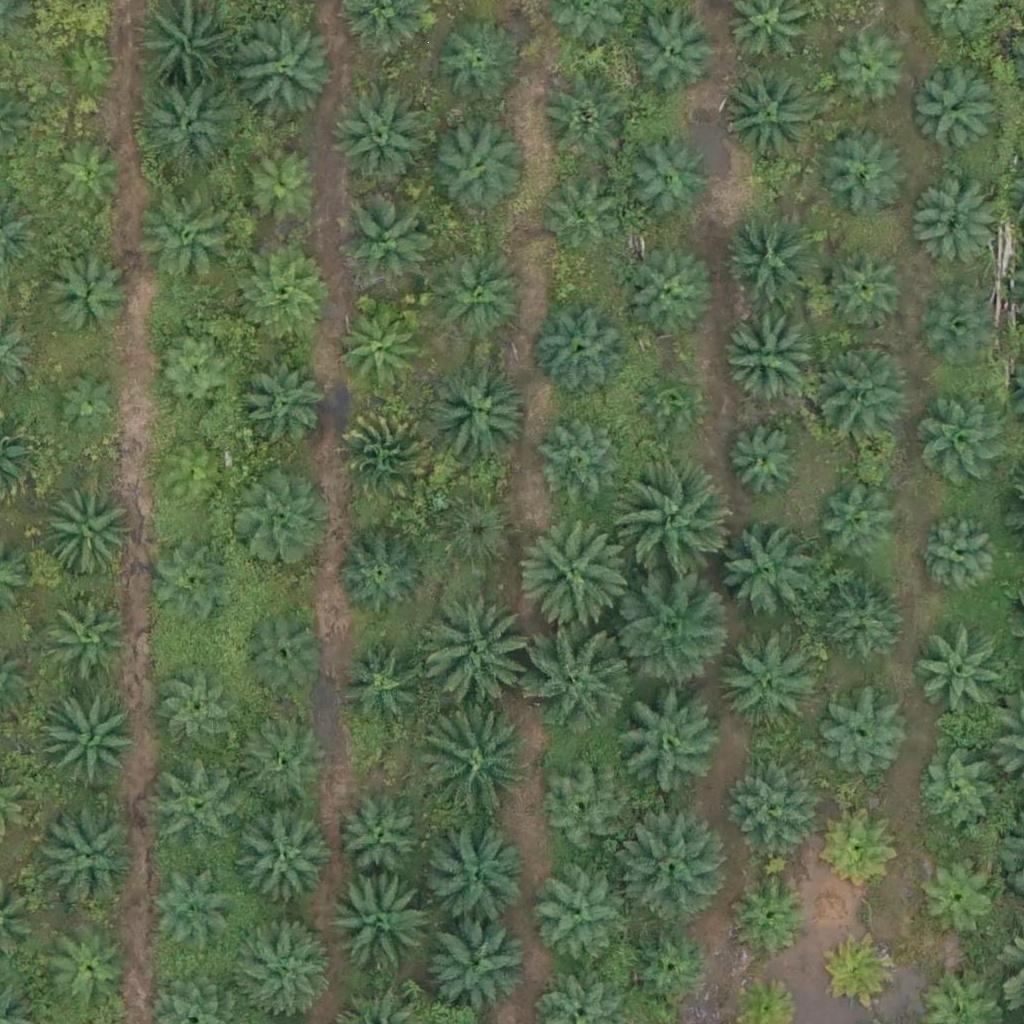Kelapa_Sawit: (418, 598, 531, 712), (613, 575, 726, 688), (614, 685, 727, 798), (615, 808, 728, 921), (524, 621, 637, 734), (520, 517, 633, 630), (414, 712, 527, 825), (620, 465, 732, 579), (912, 625, 1012, 726), (807, 341, 907, 442), (716, 629, 816, 730), (534, 301, 634, 402), (426, 358, 526, 459), (423, 828, 523, 929), (428, 911, 528, 1012), (330, 876, 430, 977), (234, 913, 334, 1014), (39, 804, 139, 905), (143, 78, 243, 179), (139, 192, 239, 293), (236, 239, 336, 340), (239, 15, 339, 116), (335, 187, 435, 288), (428, 110, 528, 211), (426, 243, 526, 344), (720, 69, 820, 170), (723, 209, 823, 310), (721, 308, 821, 408), (715, 524, 815, 624), (230, 470, 330, 570), (339, 405, 439, 505), (151, 759, 251, 859), (40, 478, 140, 578), (40, 687, 140, 787), (330, 89, 430, 189), (914, 511, 1002, 600), (625, 923, 713, 1011), (922, 401, 1010, 489), (816, 474, 904, 562), (428, 491, 516, 579), (240, 607, 328, 695), (333, 637, 421, 725), (911, 851, 999, 939), (535, 879, 623, 967), (537, 422, 625, 510), (333, 307, 421, 395), (338, 530, 426, 618), (338, 787, 426, 875), (154, 669, 242, 757), (146, 872, 234, 960), (434, 21, 522, 109), (541, 79, 629, 167), (630, 9, 718, 97), (622, 138, 710, 226), (151, 328, 239, 416), (819, 579, 906, 667), (914, 749, 1001, 837), (729, 759, 816, 847), (816, 690, 903, 778), (541, 768, 628, 856), (233, 358, 320, 446), (239, 716, 326, 804), (147, 540, 234, 628), (242, 817, 329, 905), (49, 588, 136, 676), (46, 926, 133, 1014), (44, 252, 131, 340), (142, 14, 229, 102), (143, 441, 230, 529), (241, 138, 328, 226), (539, 174, 626, 262), (629, 254, 716, 342), (822, 246, 909, 334), (822, 128, 909, 216), (829, 24, 916, 112), (915, 73, 1002, 161), (912, 181, 999, 269), (726, 424, 801, 500), (926, 291, 1001, 367), (825, 933, 900, 1009), (54, 30, 129, 106), (51, 133, 126, 209), (52, 365, 127, 440), (735, 875, 810, 950), (825, 811, 900, 886), (637, 368, 699, 431)
